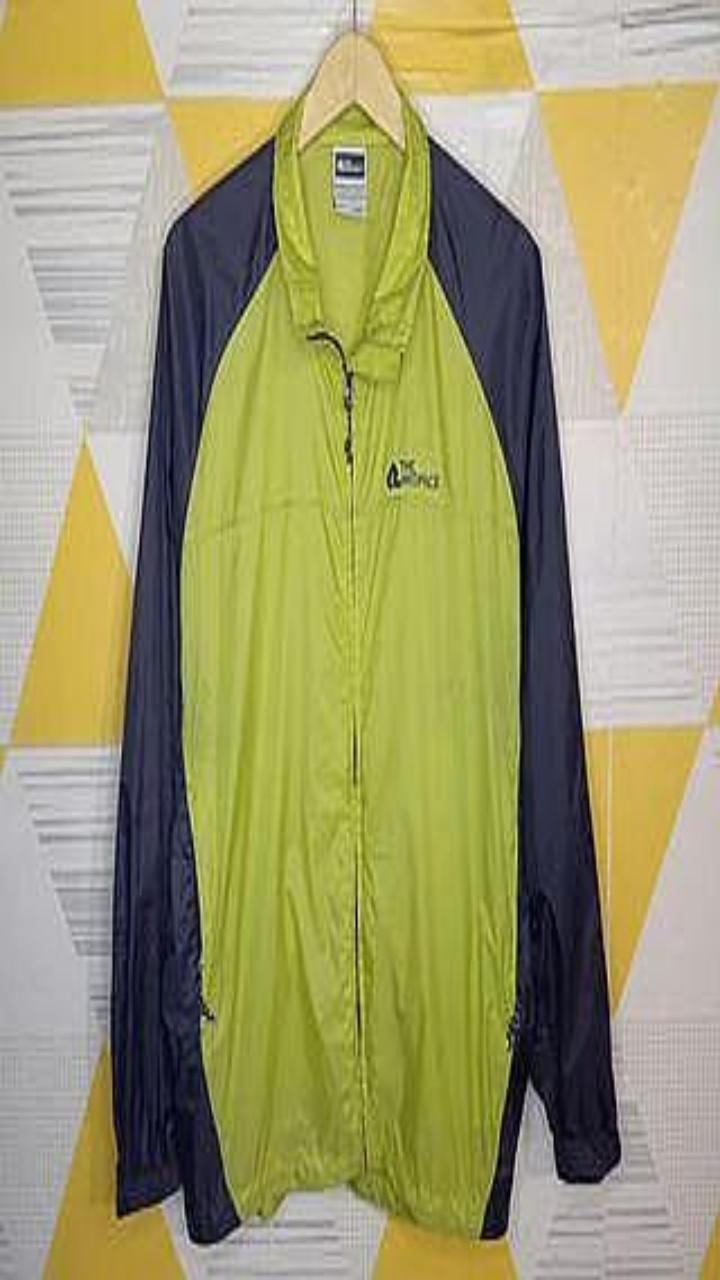Sports_Jacket: (111, 90, 619, 1243)
